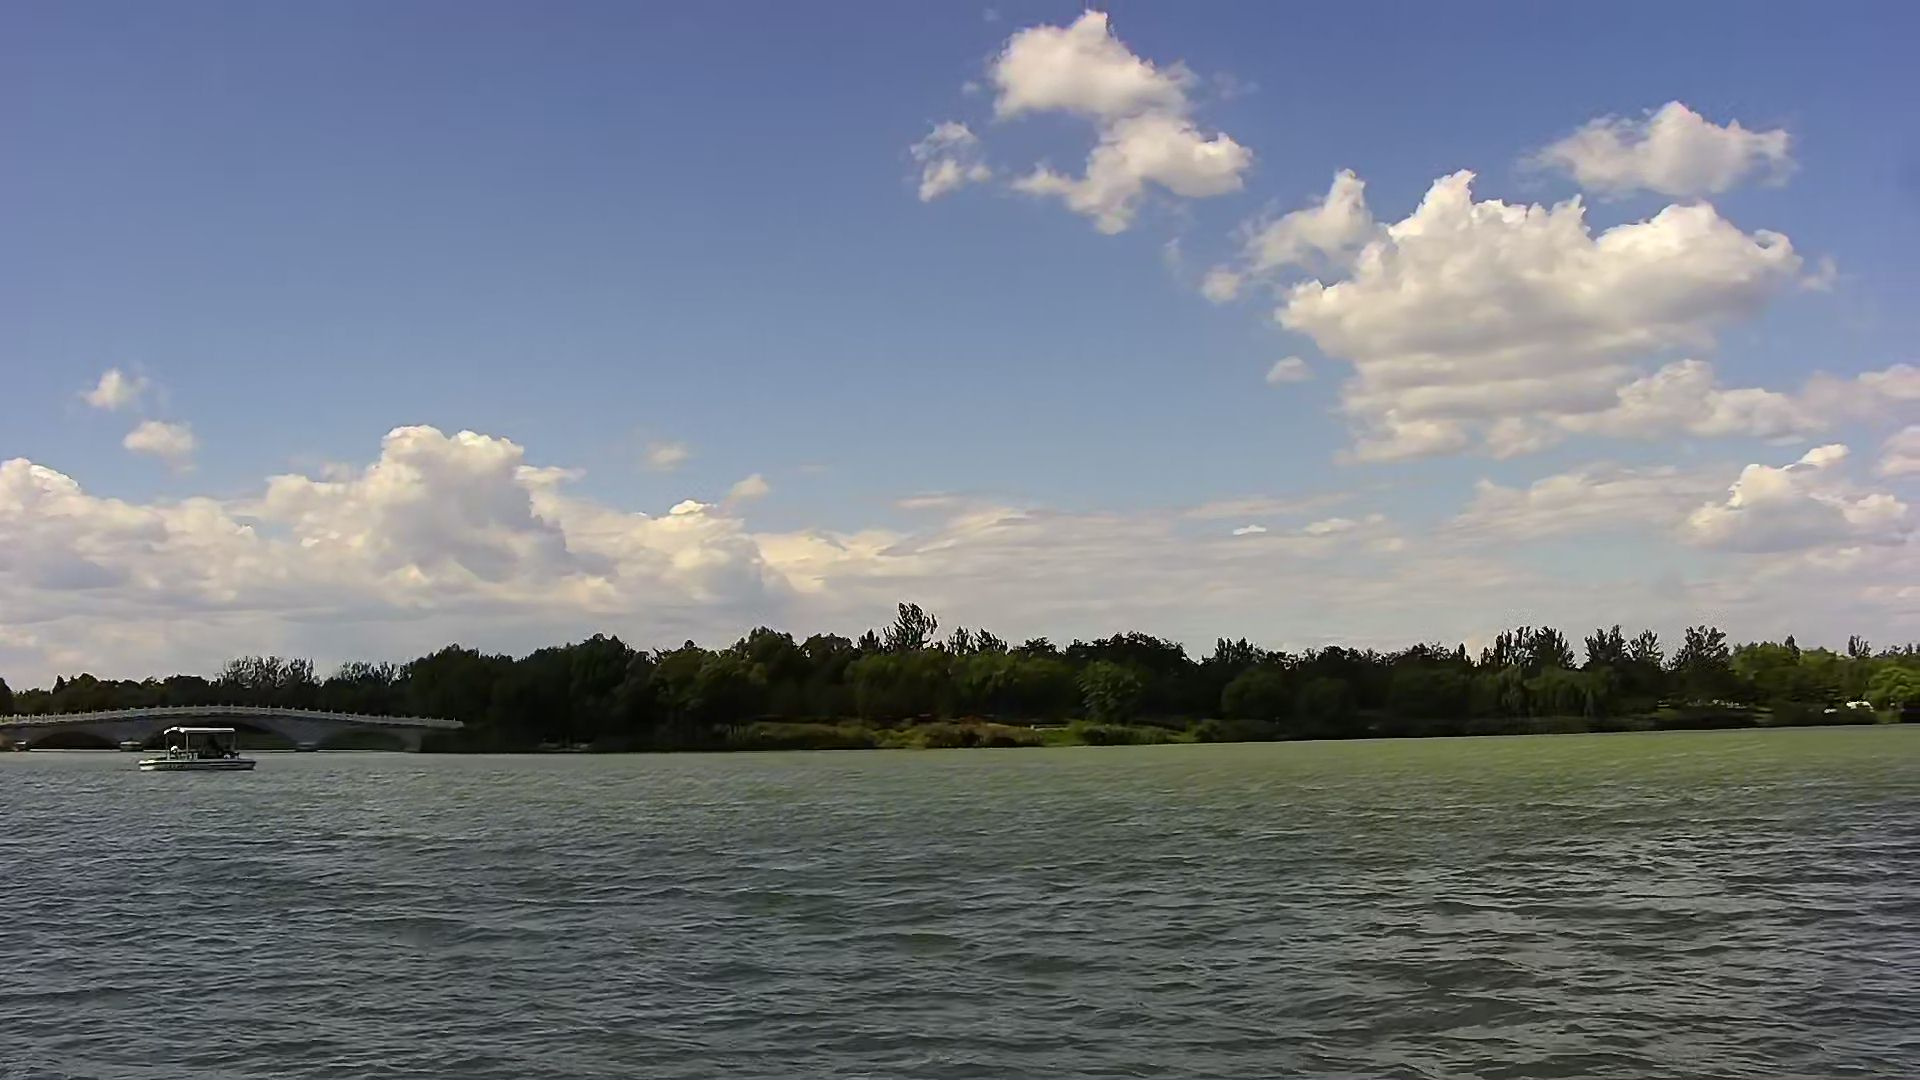boat: (145, 724, 262, 773)
bridge: (1, 702, 477, 757)
